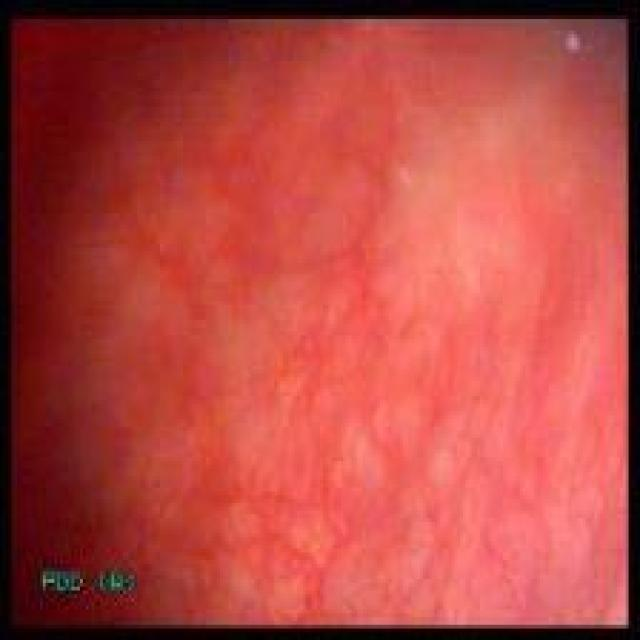blur: (13, 18, 625, 624)
color misalignment: (40, 569, 83, 591), (97, 569, 135, 591)
contrast: (13, 38, 210, 209), (12, 507, 223, 624)
saturation: (313, 87, 532, 329)
